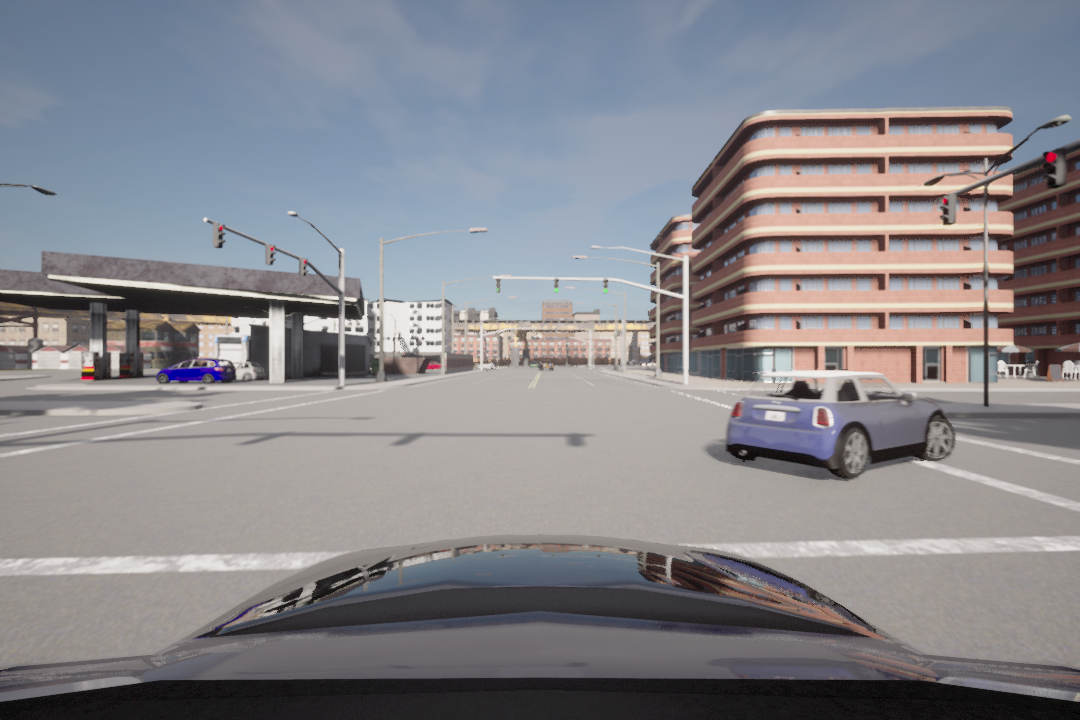TrafficLight: (1041, 145, 1063, 187), (941, 190, 960, 229), (210, 218, 228, 250), (262, 240, 277, 267), (298, 256, 311, 284), (494, 277, 505, 298), (600, 277, 611, 294), (552, 277, 561, 295)
